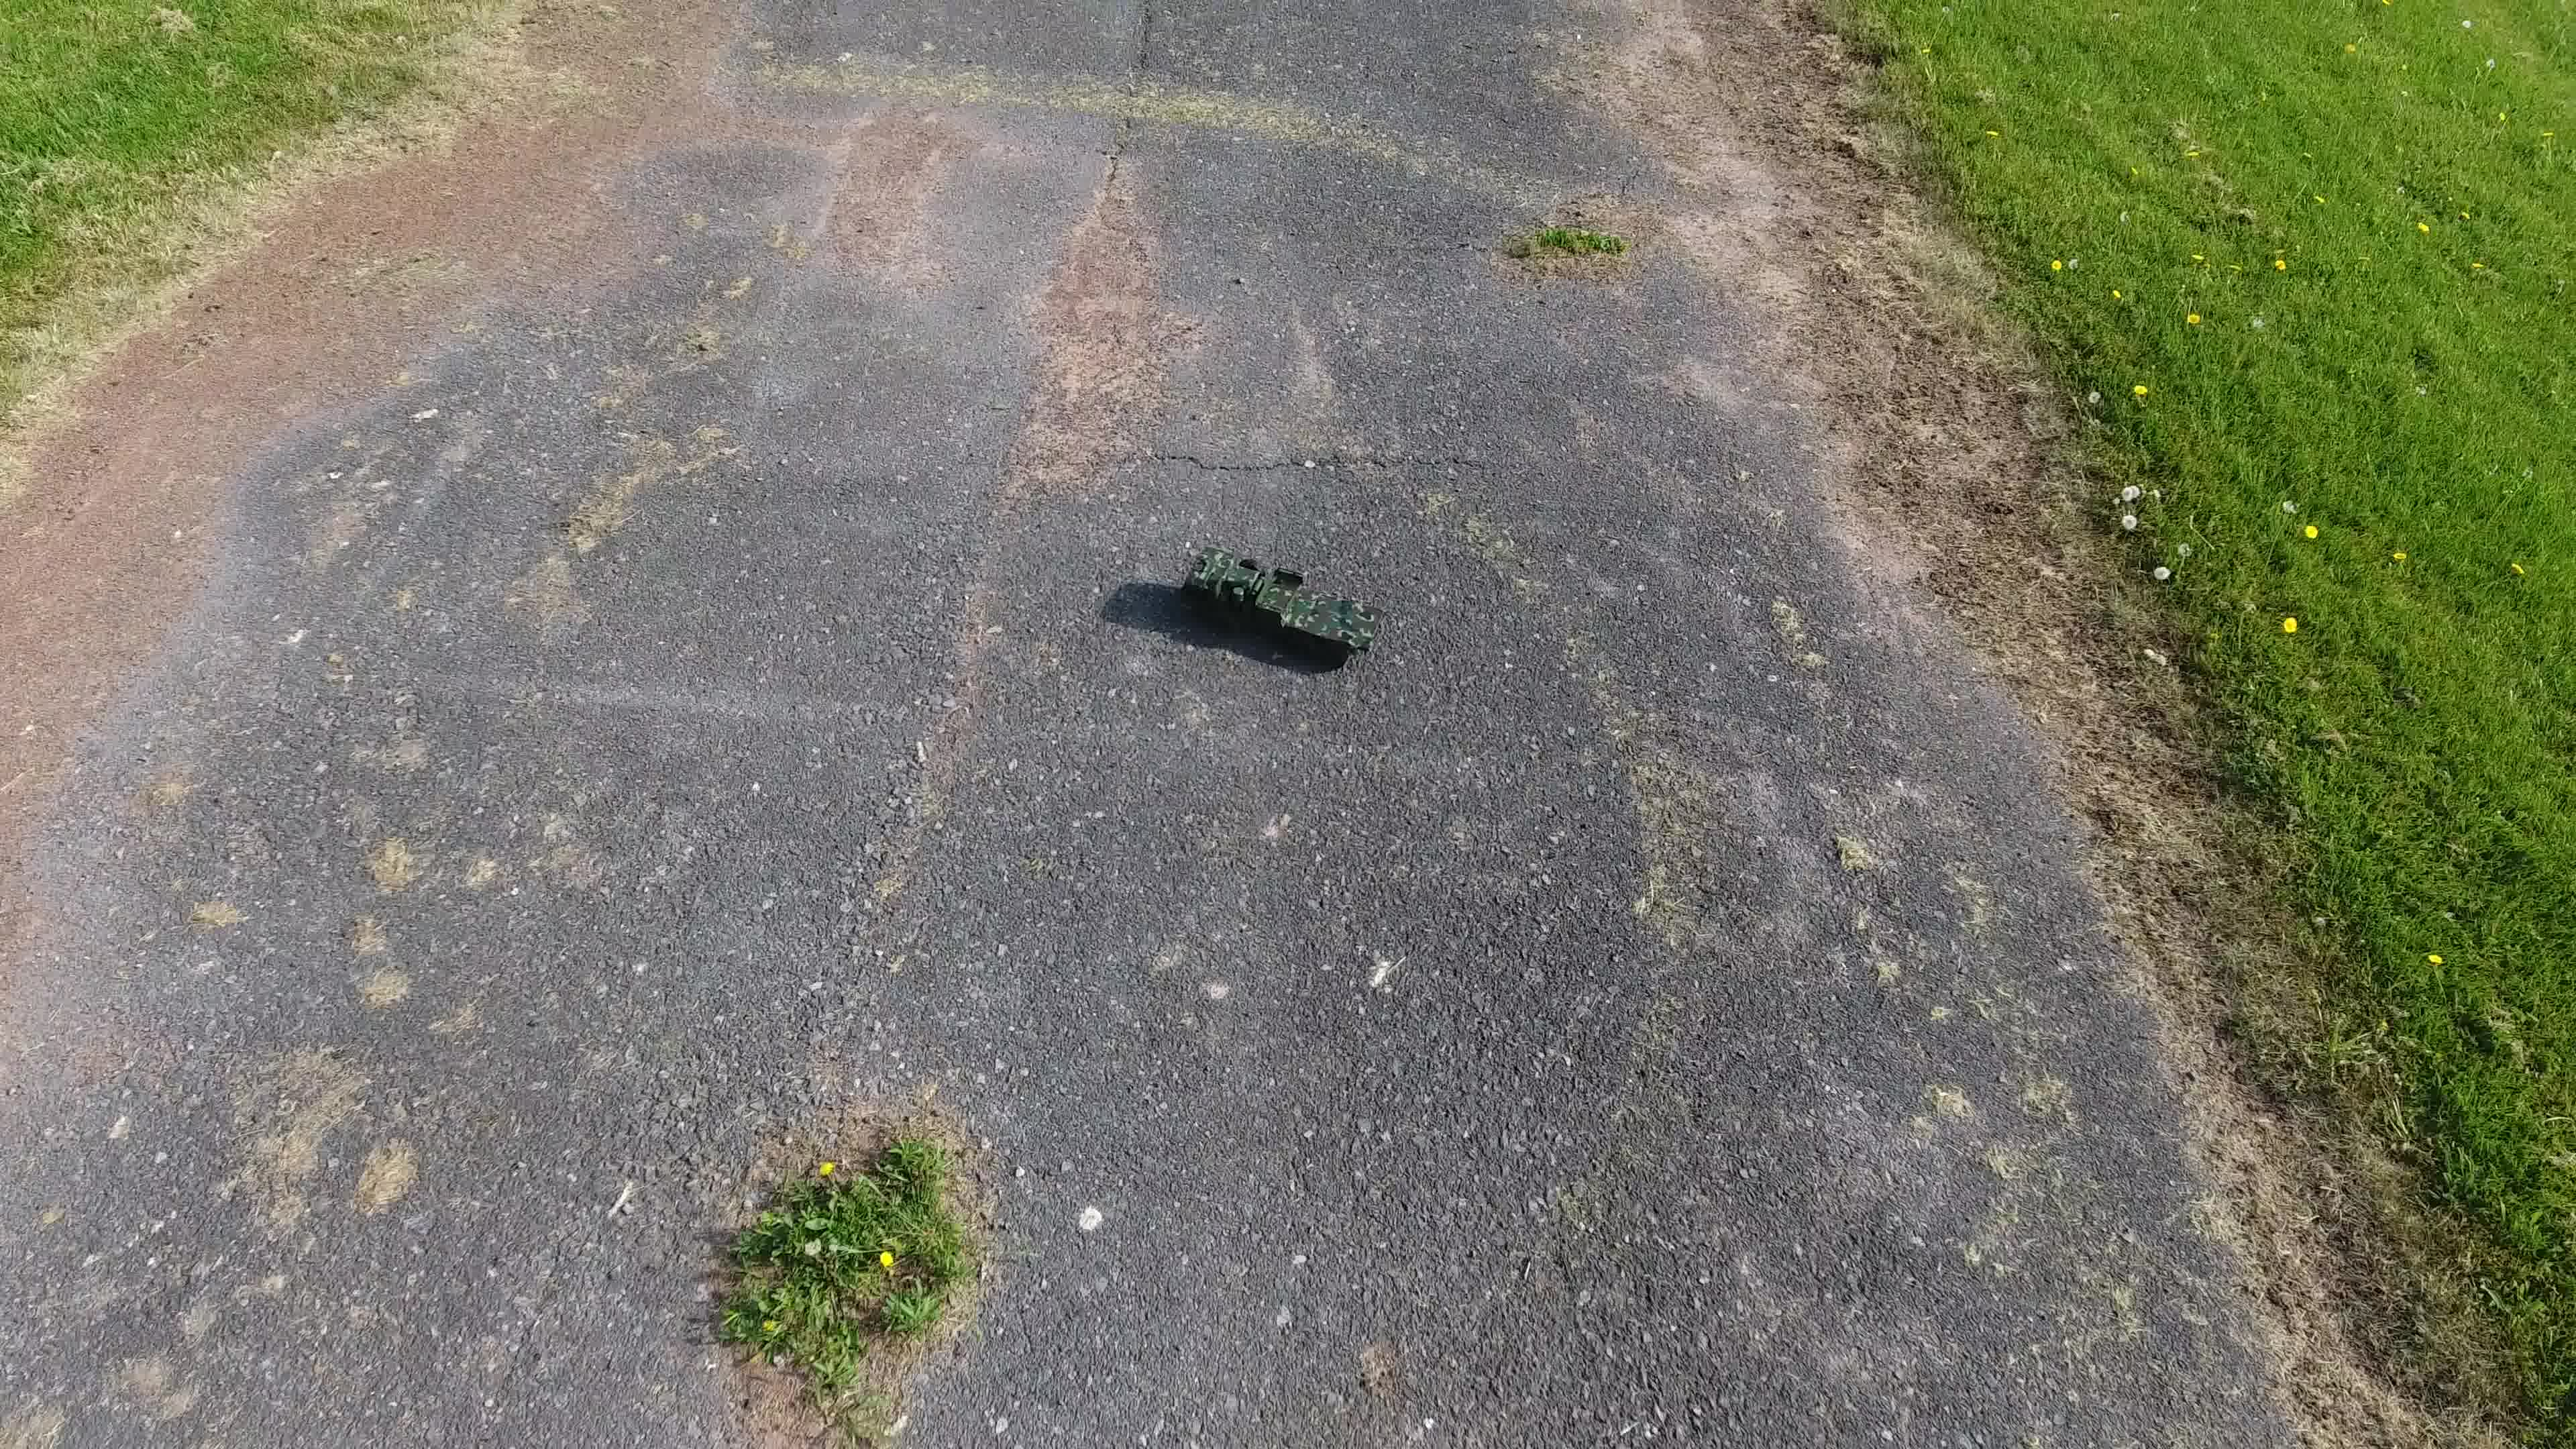transporter9_camo: (1175, 540, 1391, 667)
